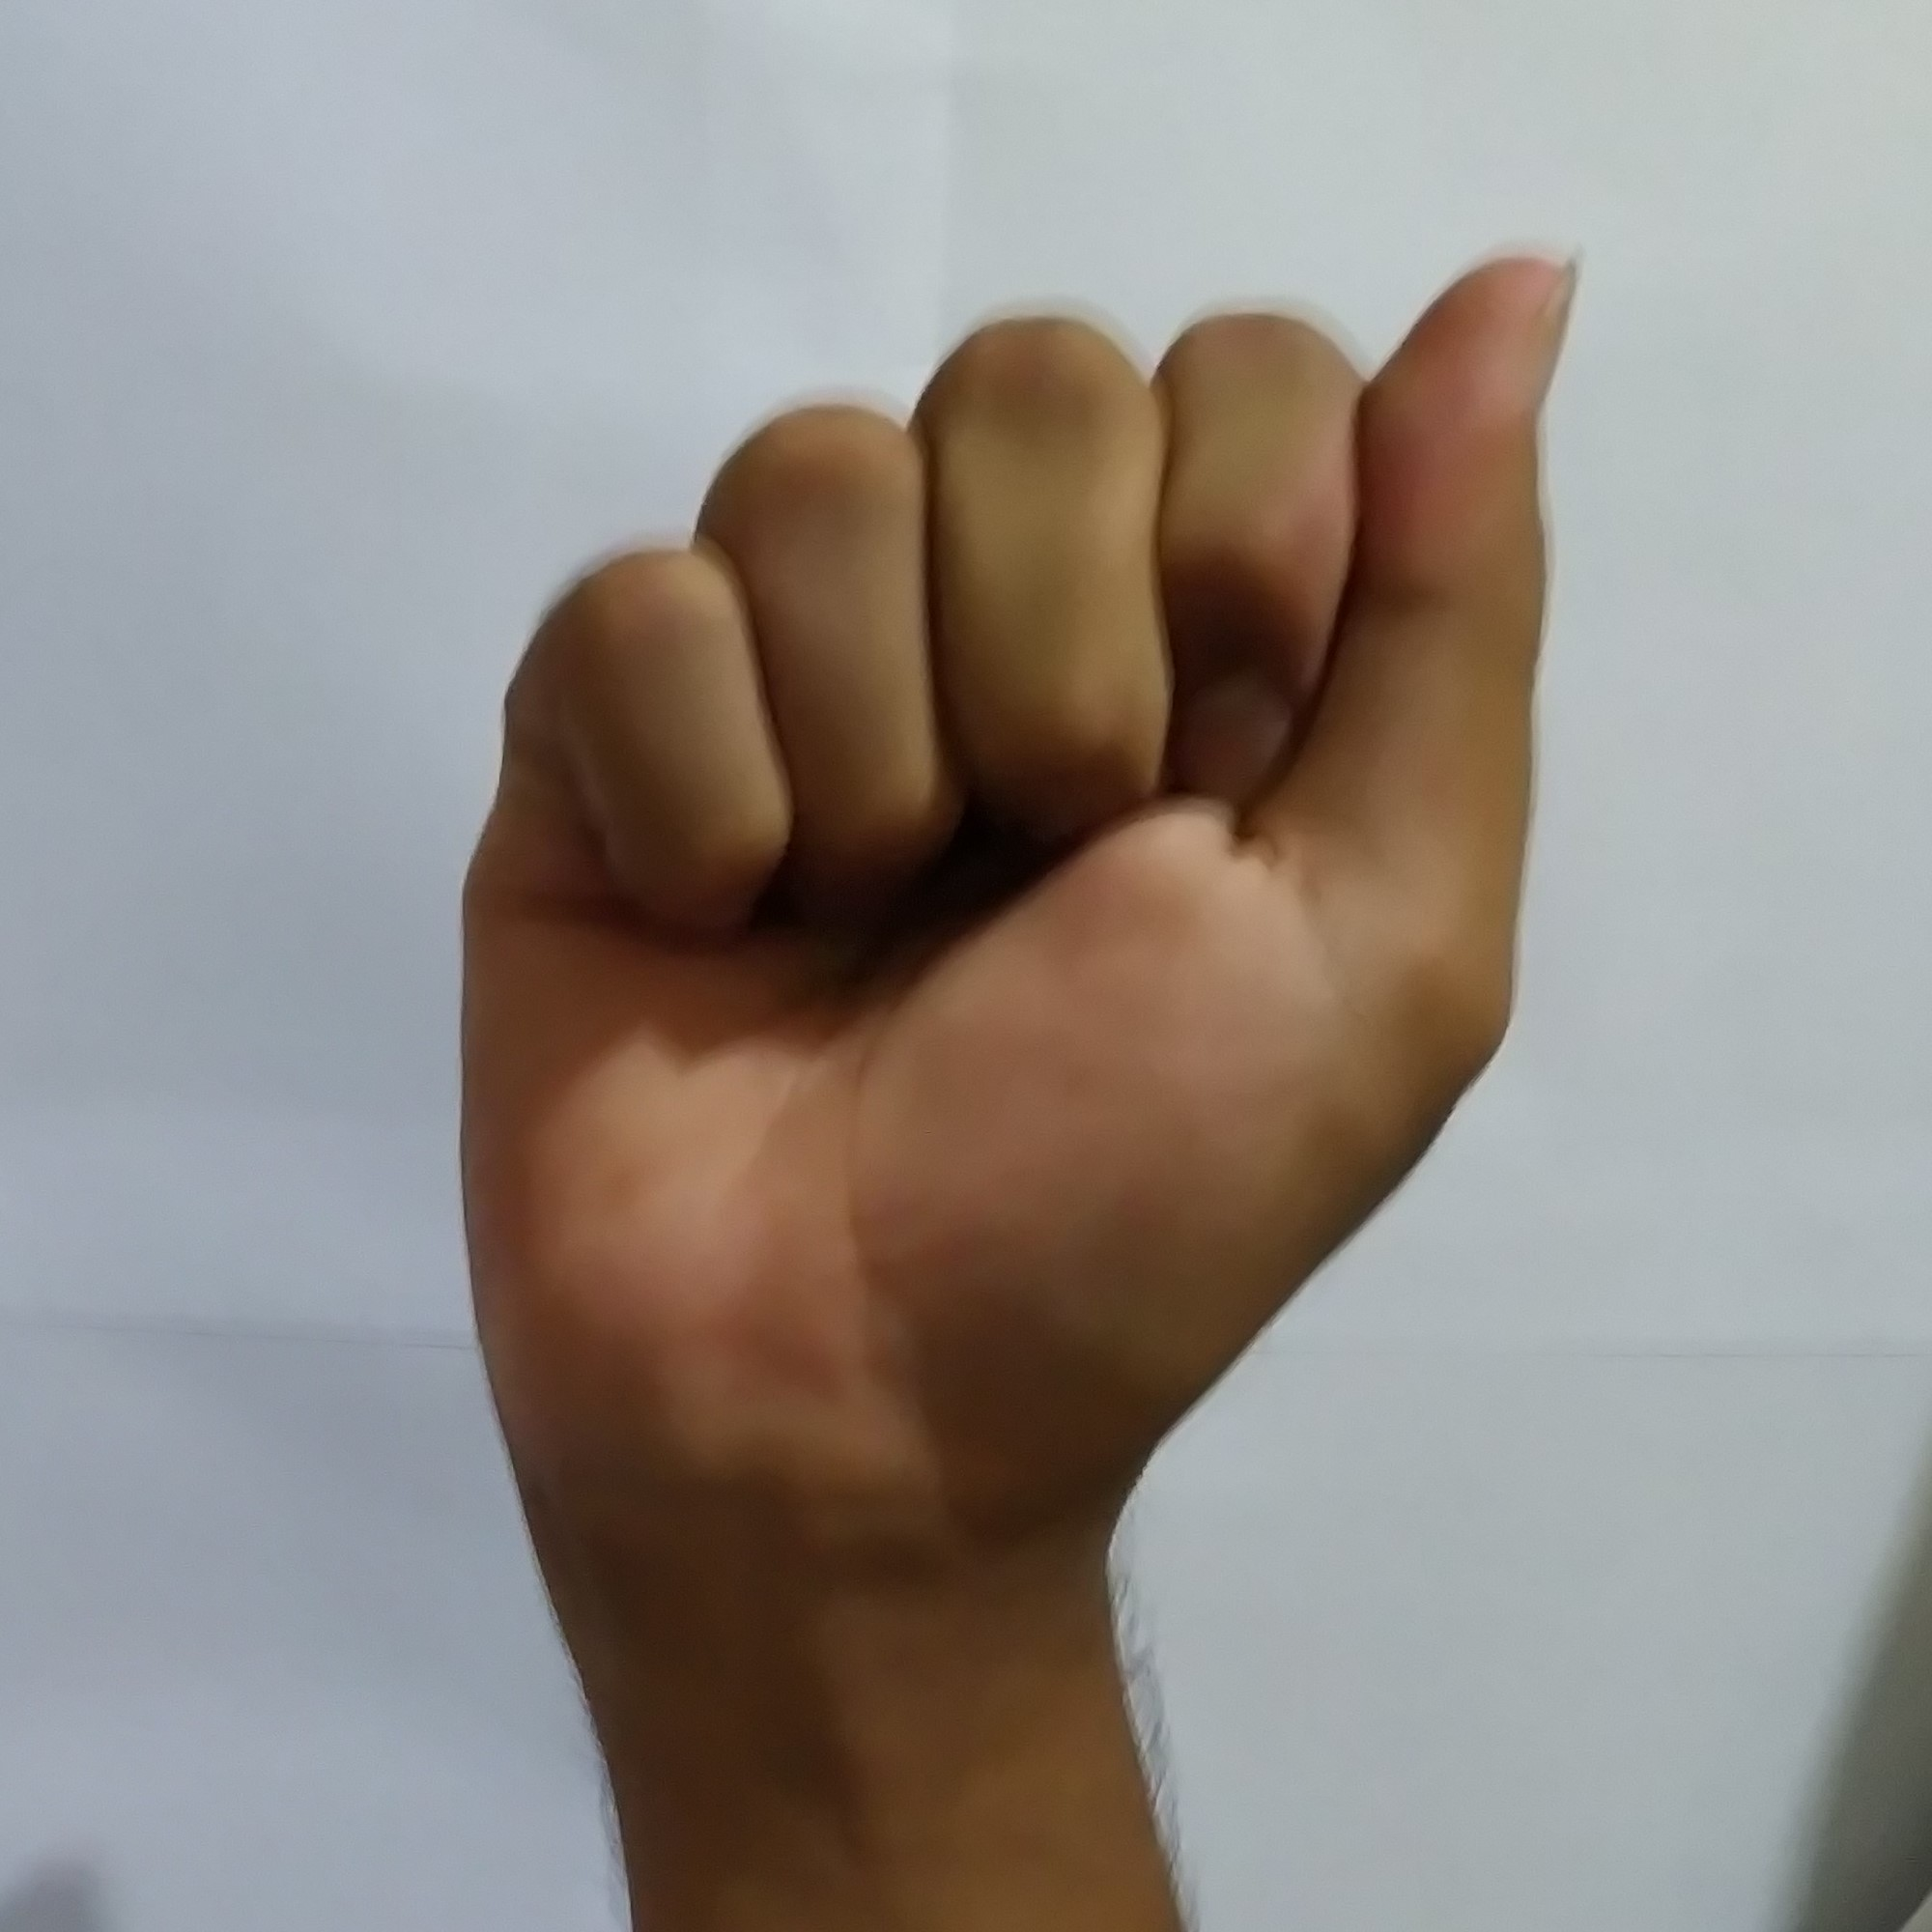A: (426, 225, 1599, 1520)
